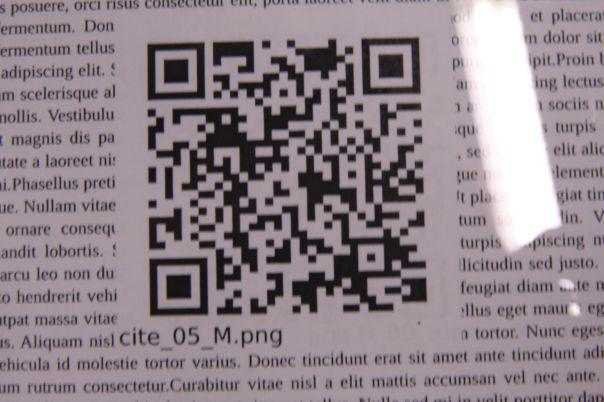Finder pattern: (145, 251, 216, 322), (355, 34, 426, 104), (143, 38, 214, 106)
